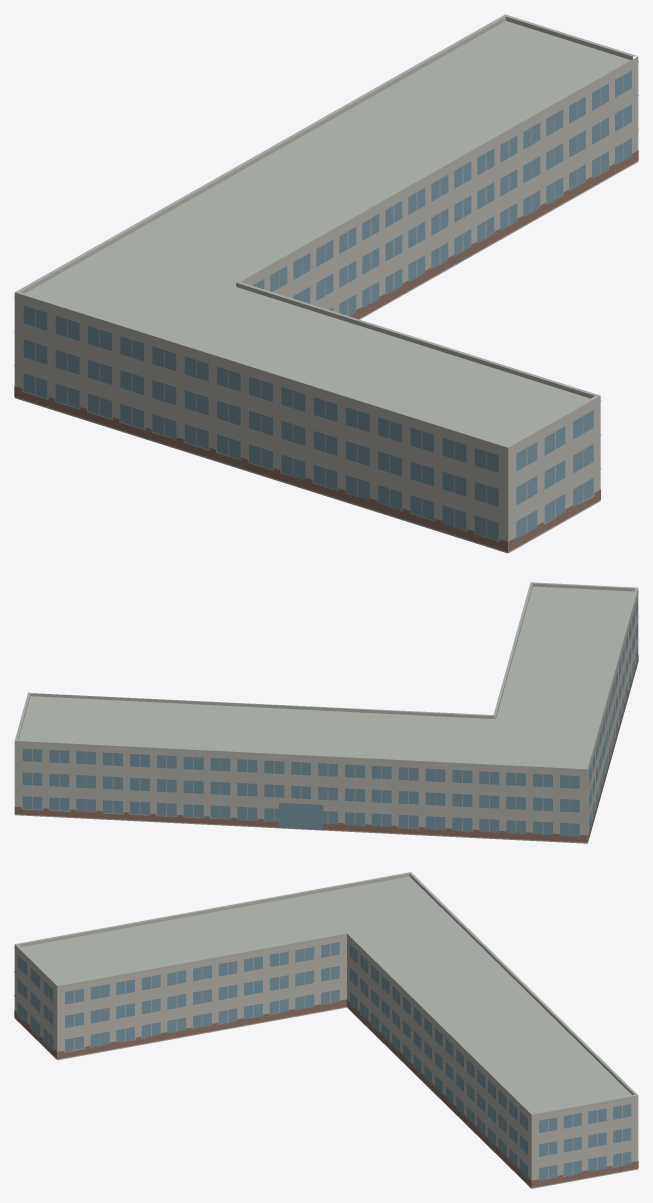
The model's file is public-838a64a1-d908-4218-8a68-24ddab071fae.glb.
3 renders of one model, top to bottom at view 1: azimuth 30°, elevation 25°; view 2: azimuth 150°, elevation 25°; view 3: azimuth 270°, elevation 25°, orthographic. The views are drawn at different scales.
Visible parts, largest first — view 1: public-838a64a1-d908-4218-8a68-24ddab071fae; view 2: public-838a64a1-d908-4218-8a68-24ddab071fae; view 3: public-838a64a1-d908-4218-8a68-24ddab071fae.
Part boxes in pixels (box(x1,y1,x2,y2)): public-838a64a1-d908-4218-8a68-24ddab071fae: box(14, 14, 638, 553); public-838a64a1-d908-4218-8a68-24ddab071fae: box(14, 582, 638, 843); public-838a64a1-d908-4218-8a68-24ddab071fae: box(14, 872, 638, 1188).
Size of the model in its own units: 64.38 by 9.15 by 69.9.
